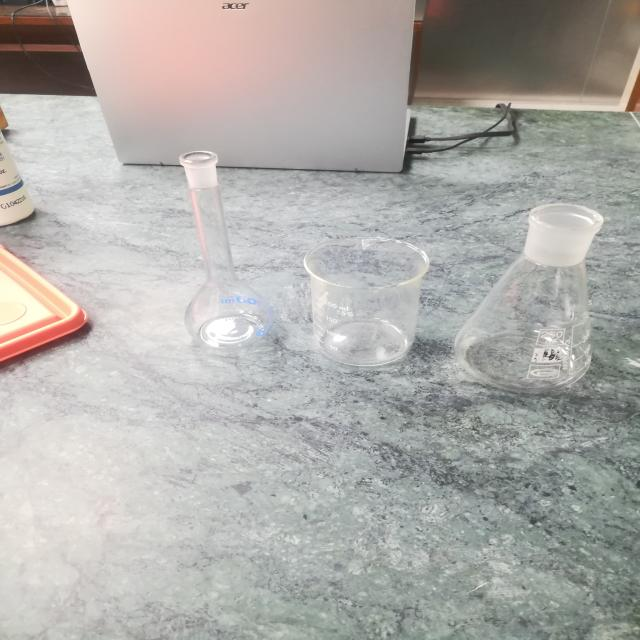Beaker: (293, 223, 433, 374)
Conical_Flask: (454, 163, 611, 408)
Volumetric_Flask: (153, 125, 277, 362)
